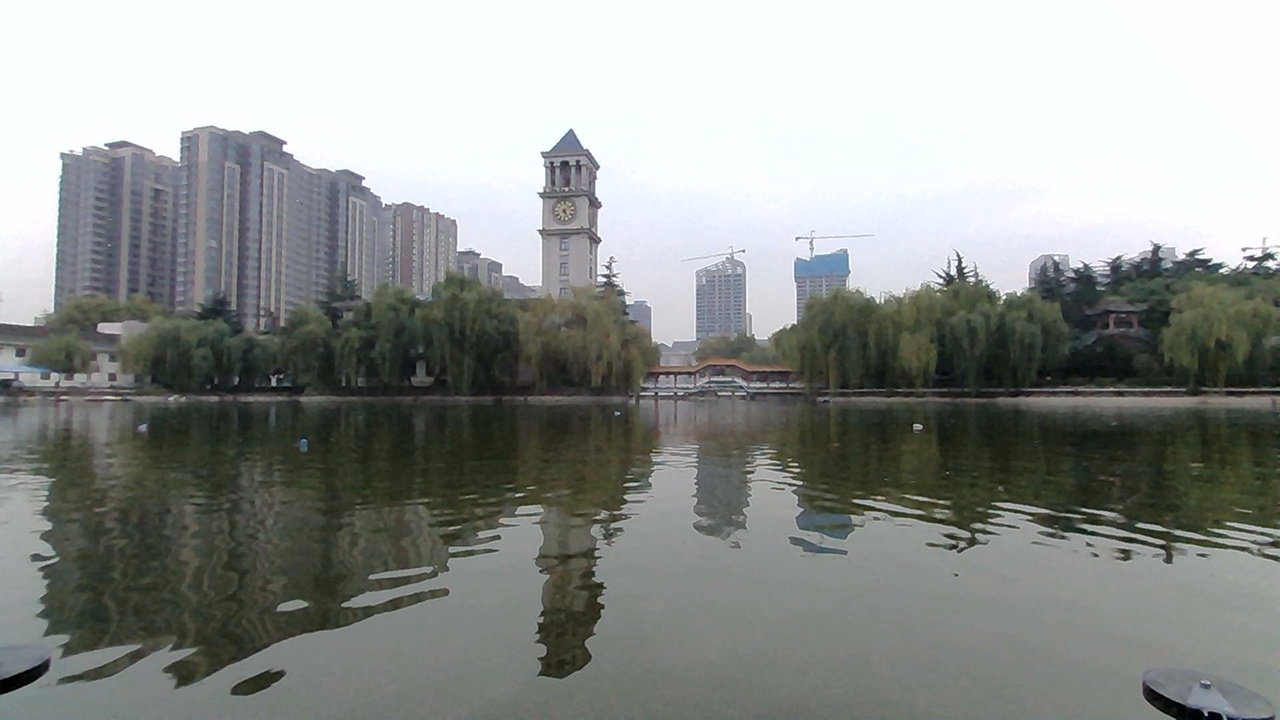bottle: (902, 414, 940, 435), (289, 435, 323, 457), (136, 410, 157, 438)
